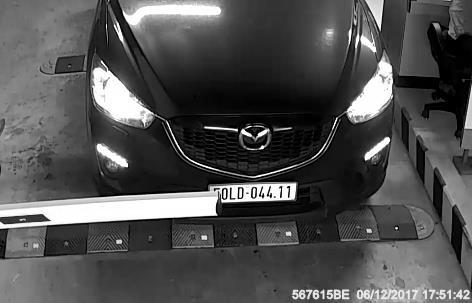License-plate: (201, 171, 304, 213)
